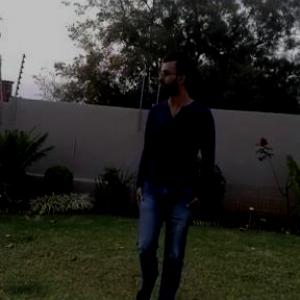follow: (126, 45, 217, 298)
